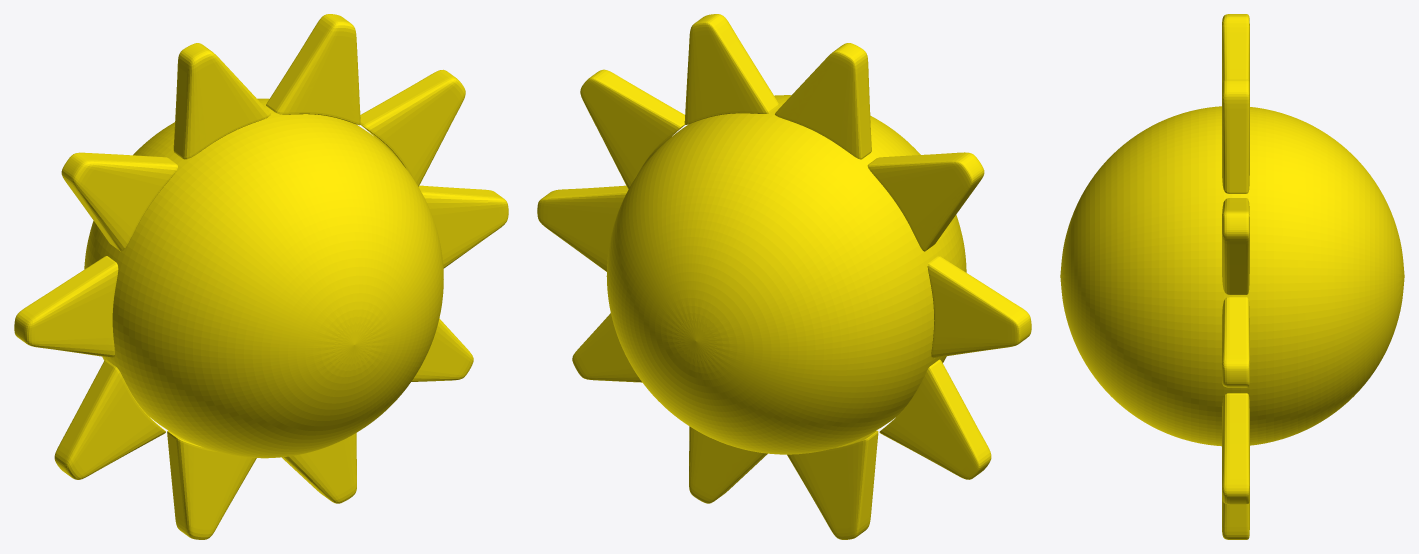
The model's file is sunny day.fbx.
3 views of the same model, side by side, from view 1: azimuth 30°, elevation 25°; view 2: azimuth 150°, elevation 25°; view 3: azimuth 270°, elevation 25° (orthographic). The views are drawn at different scales.
Parts seen in each view (by area): view 1: Сфера; view 2: Сфера; view 3: Сфера.
Boxes of the visible parts, x1,y1,x2,y2 form: Сфера: [14, 14, 508, 539]; Сфера: [537, 14, 1031, 539]; Сфера: [1060, 14, 1404, 539].
Bounding box in the file's own units: 258 × 168 × 249.
